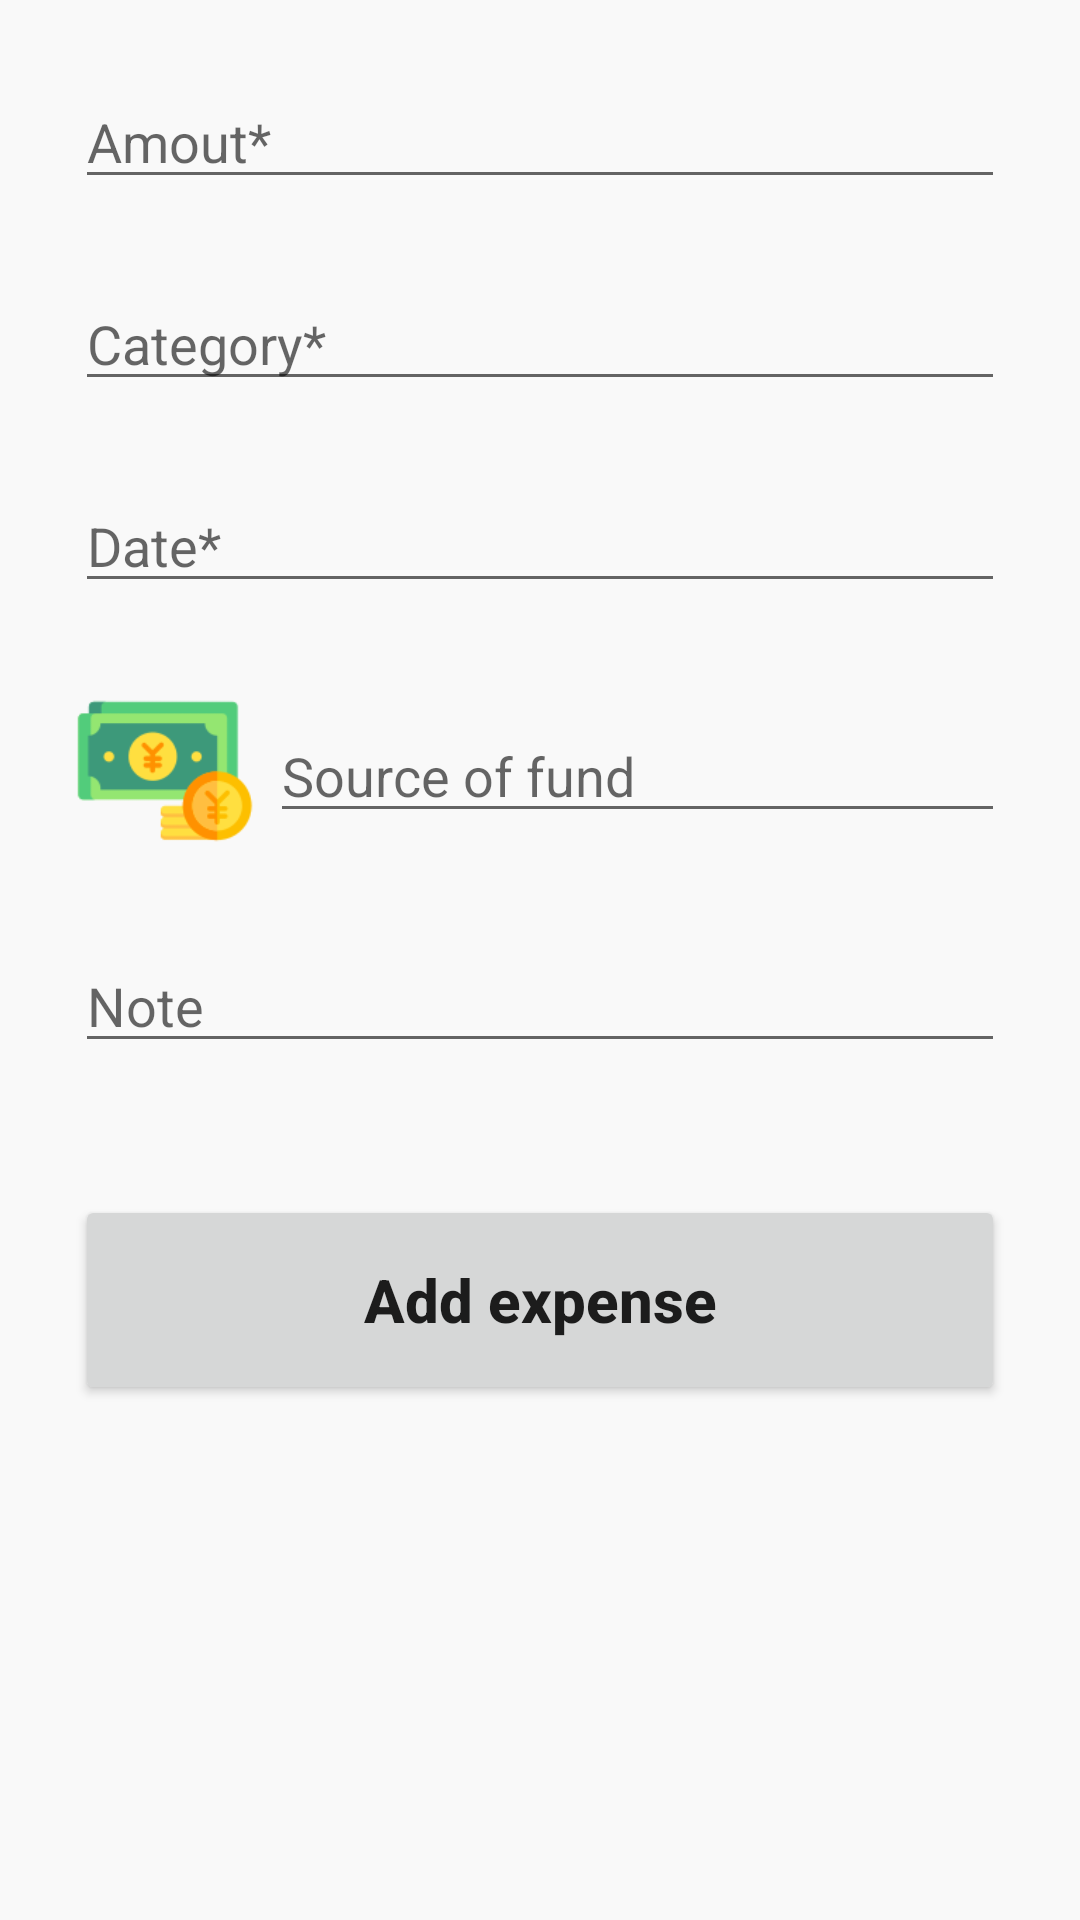

Named icons in this screenshot (1080w x 1920h) and their centers, (x=x, y=y):
source cash: (x=165, y=771)
